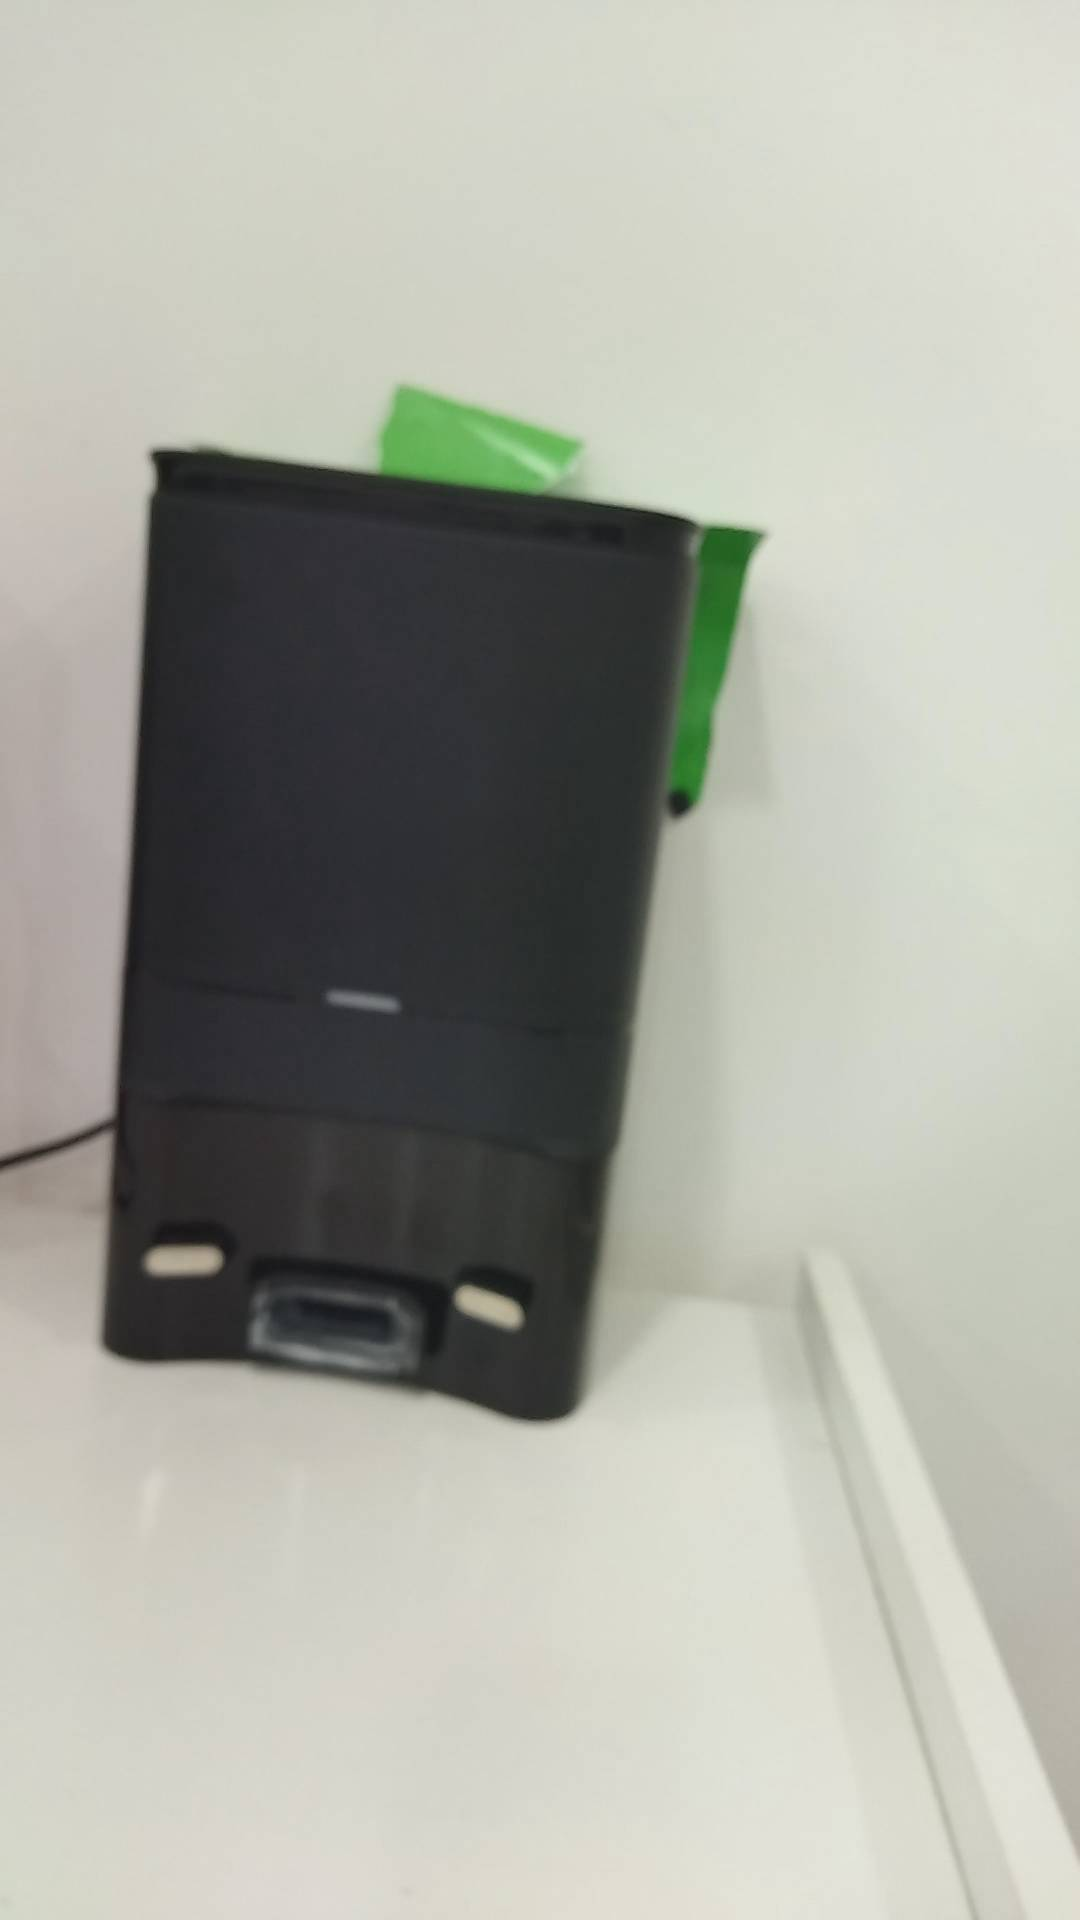dust collecting barrel: (98, 443, 694, 1422)
